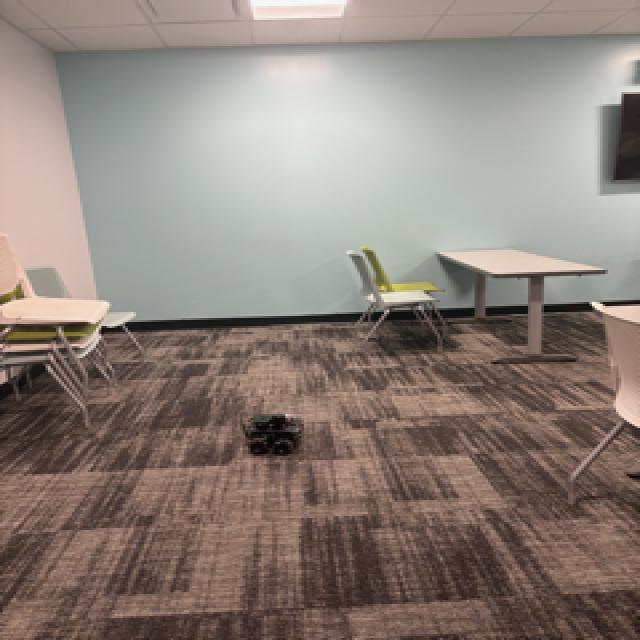ArduinoCar3: (243, 412, 310, 455)
